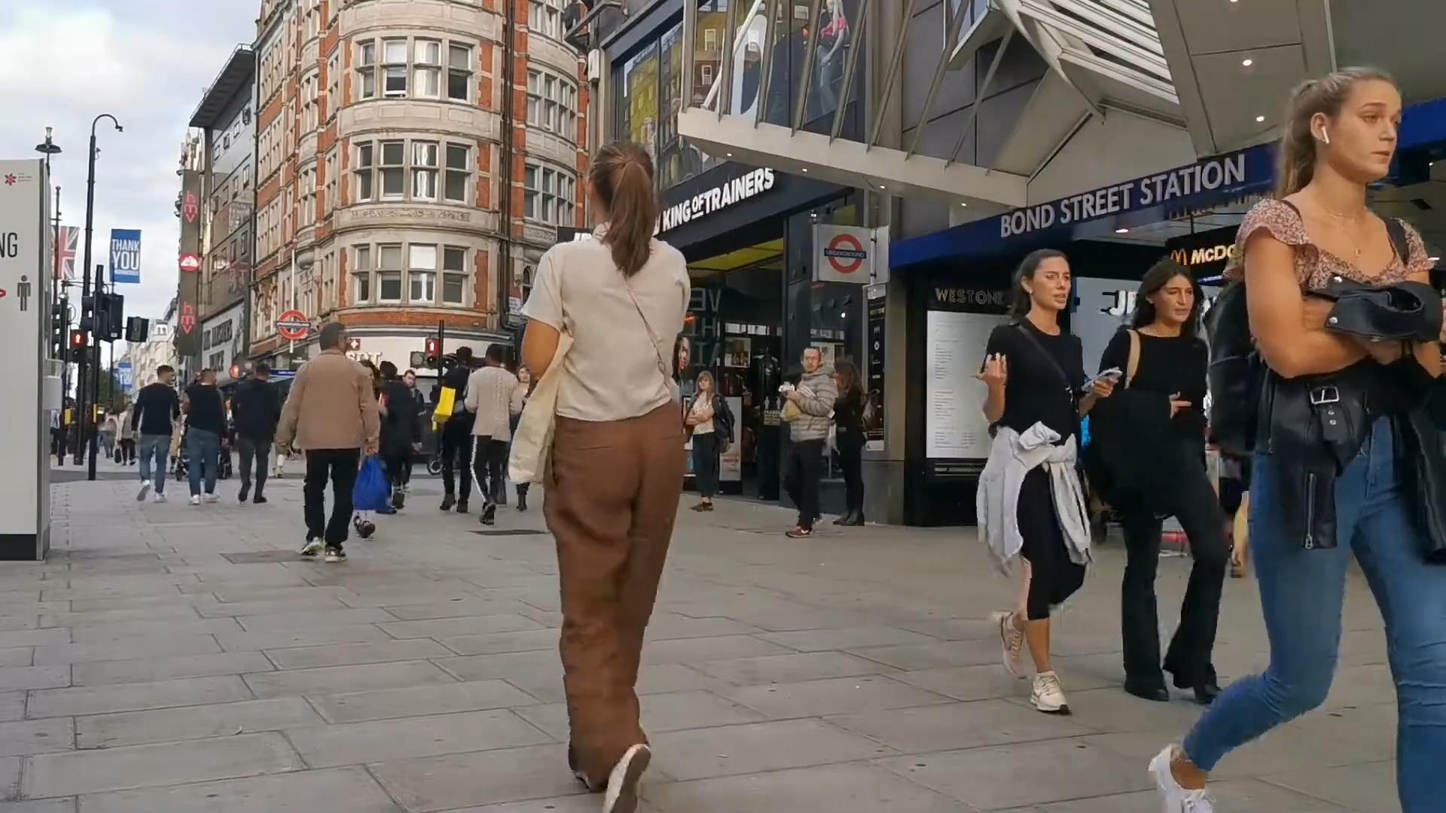no-helmet: (1275, 64, 1403, 196), (587, 138, 659, 280), (1132, 259, 1204, 329), (1010, 248, 1072, 317), (319, 322, 353, 356), (696, 370, 715, 406), (800, 346, 823, 374), (484, 343, 504, 365), (156, 365, 174, 384), (517, 363, 531, 384), (402, 370, 416, 388)
